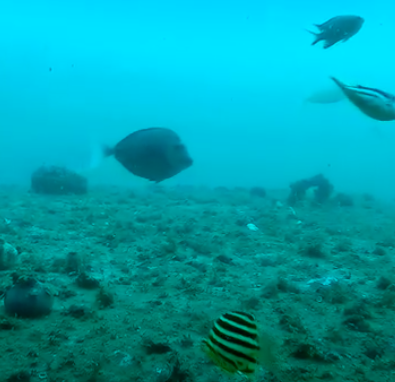ishidai: (196, 309, 270, 377)
smallfish: (80, 114, 199, 188), (300, 6, 374, 51)
